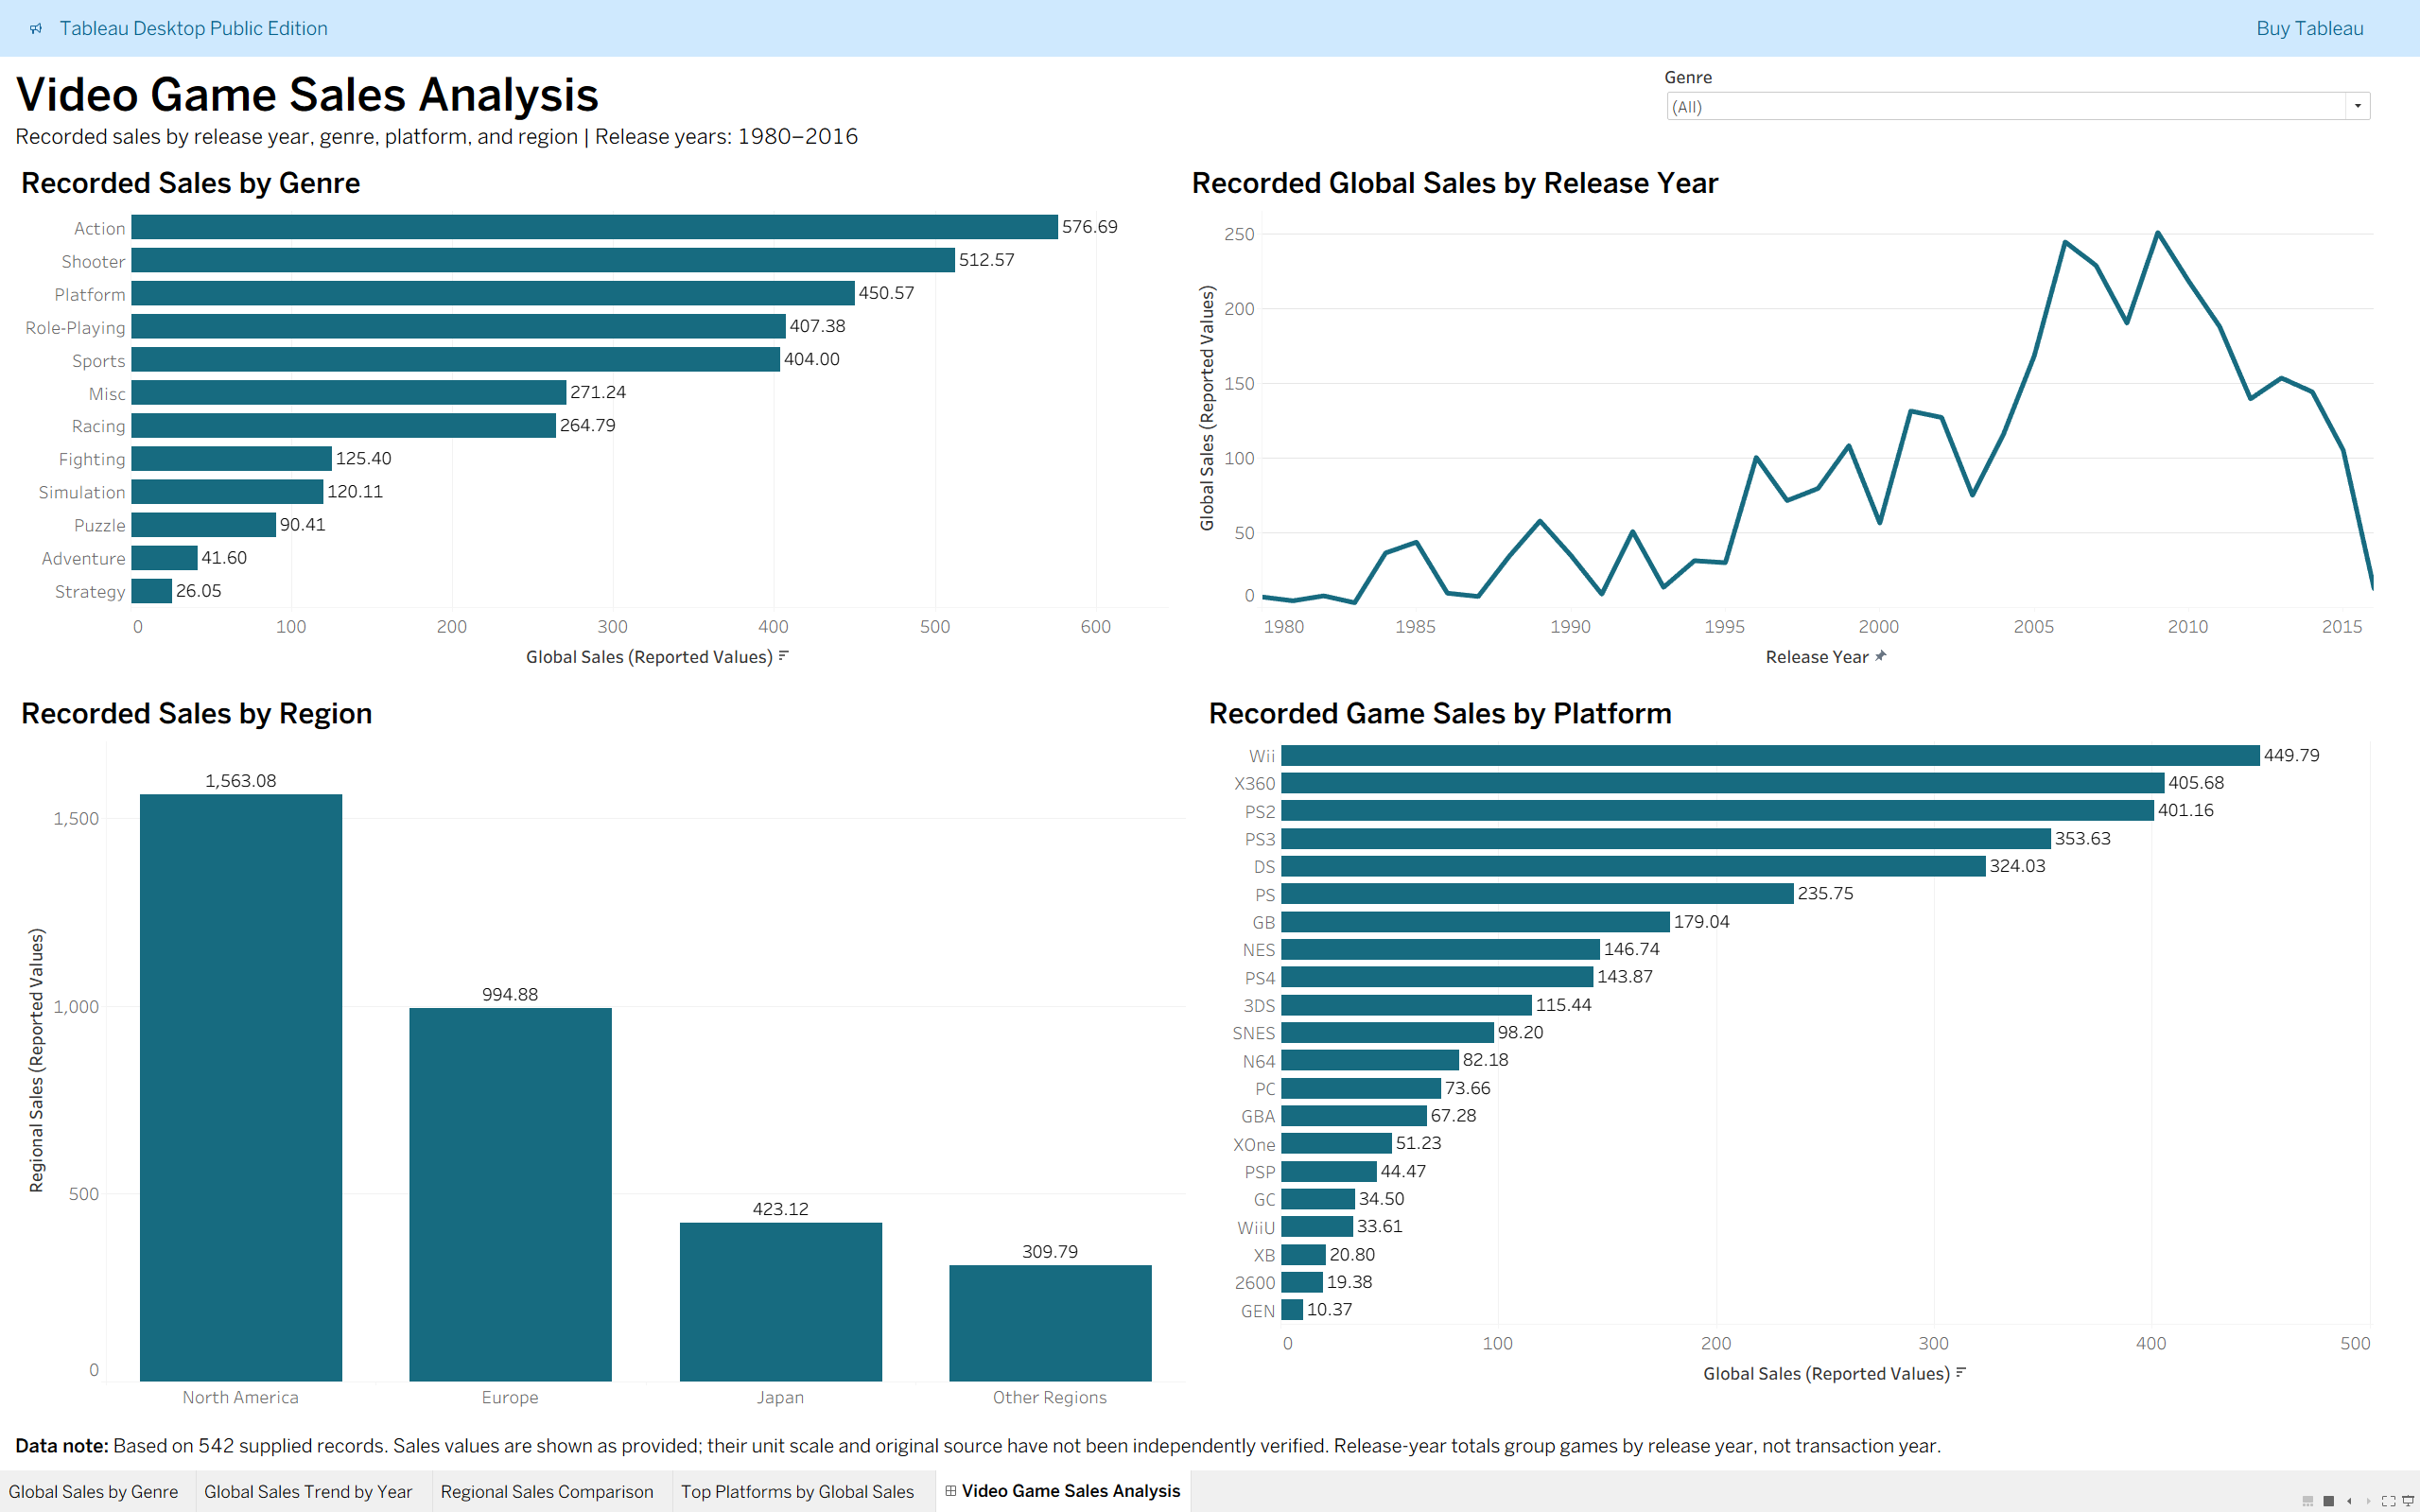

The page's visual inventory and layout, read from the dashboard file:
{"tool":"tableau","page":{"name":"Video Game Sales Analysis","canvas":[1000,1000],"units":"permille","ordinal":0},"visuals":[{"type":"filter","title":"Global Sales by Genre","param":"[federated.1fpd7hc0bz33wq12lzuxu0gm1sxn].[none:Genre:nk]","box":[687.5,5.2,293,69.5]},{"type":"title","box":[3.6,6,978.3,70.3]},{"type":"worksheet","title":"Global Sales by Genre","mark":"Automatic","rows":["Genre"],"cols":["Global_Sales"],"box":[3.6,76.2,481.9,419.3]},{"type":"worksheet","title":"Global Sales Trend by Year","mark":"Automatic","rows":["Global_Sales"],"cols":["Year"],"box":[485.6,76.2,496.2,419.3]},{"type":"worksheet","title":"Regional Sales Comparison","mark":"Bar","box":[3.6,495.5,489.1,474.6]},{"type":"worksheet","title":"Top Platforms by Global Sales","mark":"Automatic","rows":["Platform"],"cols":["Global_Sales"],"box":[492.8,495.5,489.1,474.6]},{"type":"text","box":[3.6,970,978.3,24]}]}

Visuals, with their boxes on the dashboard's canvas, which has no fixed pixel size, in thousandths of its width and height (x1, y1, x2, y2). These are canvas units, not pixel positions in the 2420x1512 screenshot, which may show the page scaled, cropped or inside an application window:
"Global Sales by Genre" filter: <bbox>688, 5, 980, 75</bbox>
title: <bbox>4, 6, 982, 76</bbox>
"Global Sales by Genre" worksheet: <bbox>4, 76, 486, 496</bbox>
"Global Sales Trend by Year" worksheet: <bbox>486, 76, 982, 496</bbox>
"Regional Sales Comparison" worksheet (Bar marks): <bbox>4, 496, 493, 970</bbox>
"Top Platforms by Global Sales" worksheet: <bbox>493, 496, 982, 970</bbox>
text: <bbox>4, 970, 982, 994</bbox>
